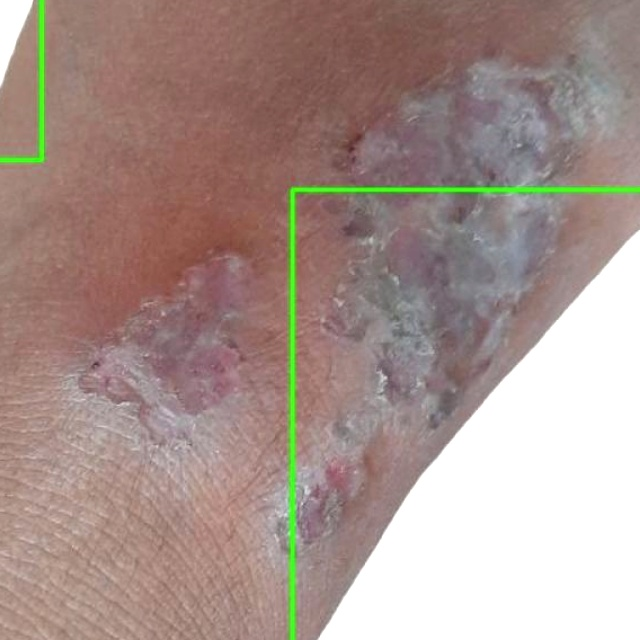Contact Dermatitis: (292, 189, 639, 639)
